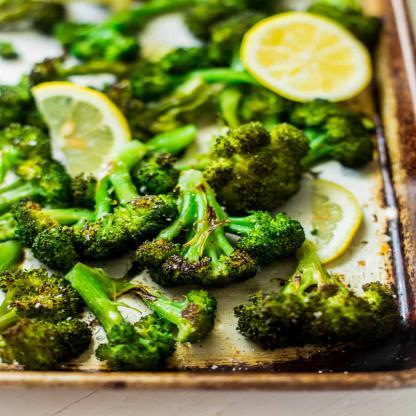broccoli: (0, 0, 383, 365)
